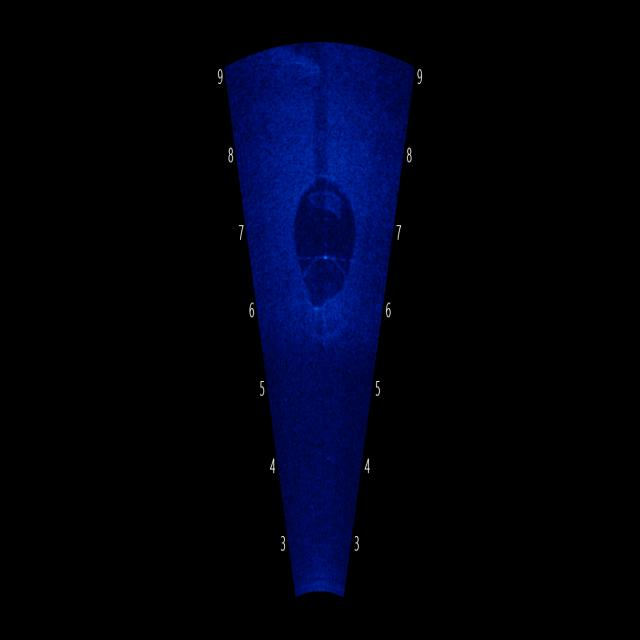circle: (284, 143, 368, 324)
